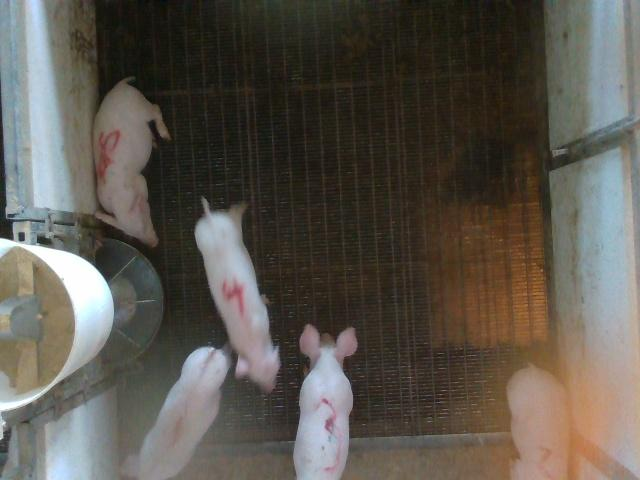pig-1: (121, 346, 230, 478)
pig-3: (294, 325, 358, 479)
pig-4: (195, 199, 280, 392)
pig-5: (94, 78, 170, 247)
